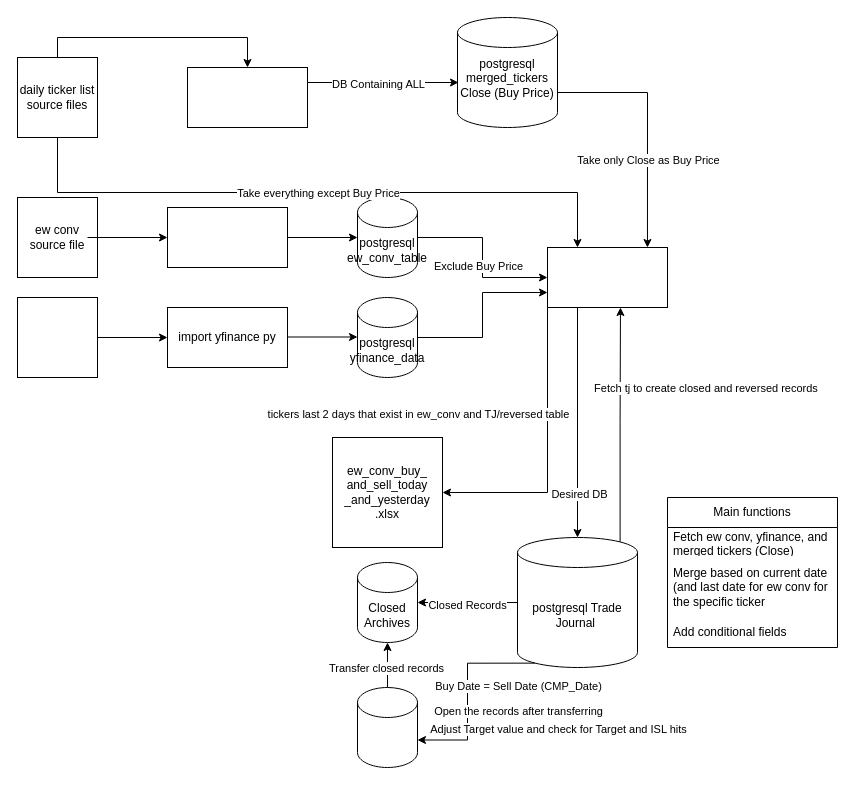
This 855x785 diagram has some shape labels left out. Here are the shapes that lost their labels. From the top down, the box of each, then its label:
(186, 66, 308, 128): data cleaning and analysis to csv. py
(166, 206, 288, 268): ew conv py
(546, 246, 668, 308): testing.py (MAIN FILE)
(16, 296, 98, 378): download folder
(356, 686, 418, 768): reversed_table
